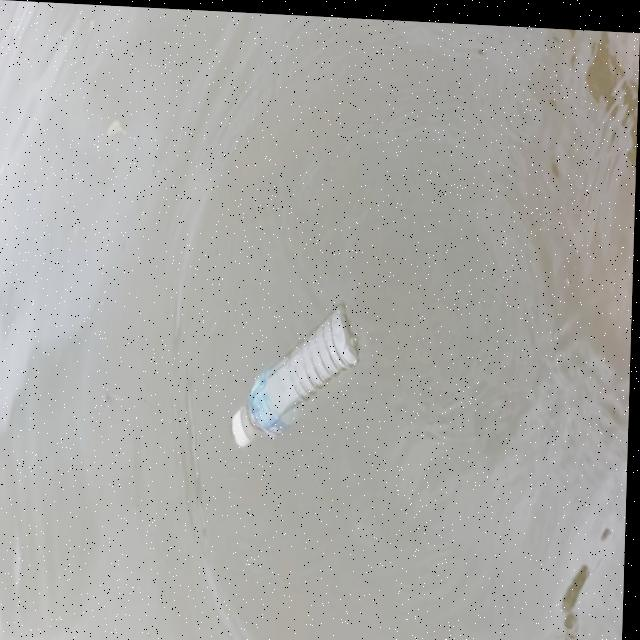waterbottle: (201, 292, 384, 453)
